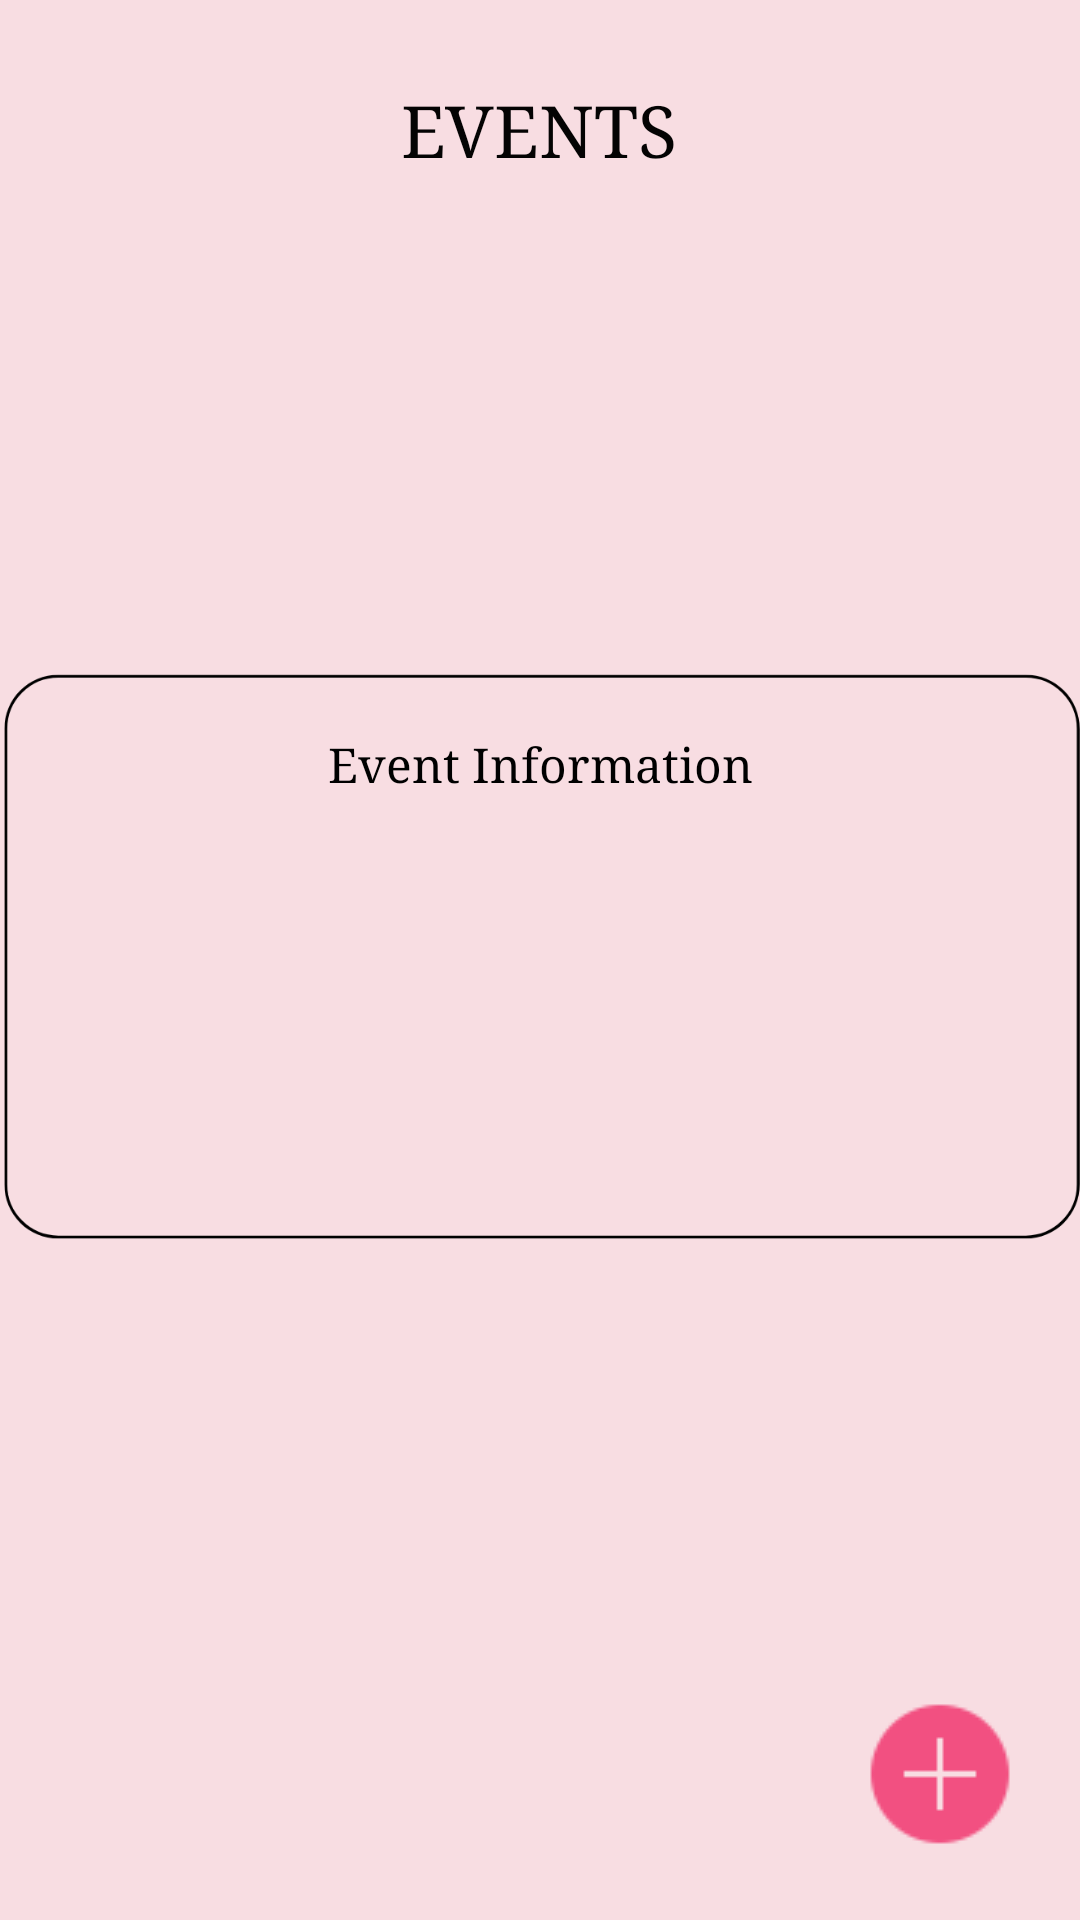

Named icons in this screenshot (1080x1920) and their centers, [x,y]:
plus: [940,1774]
